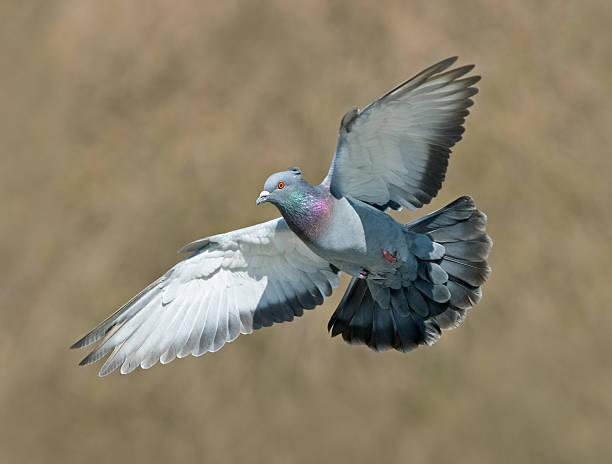bird: (72, 58, 491, 375)
